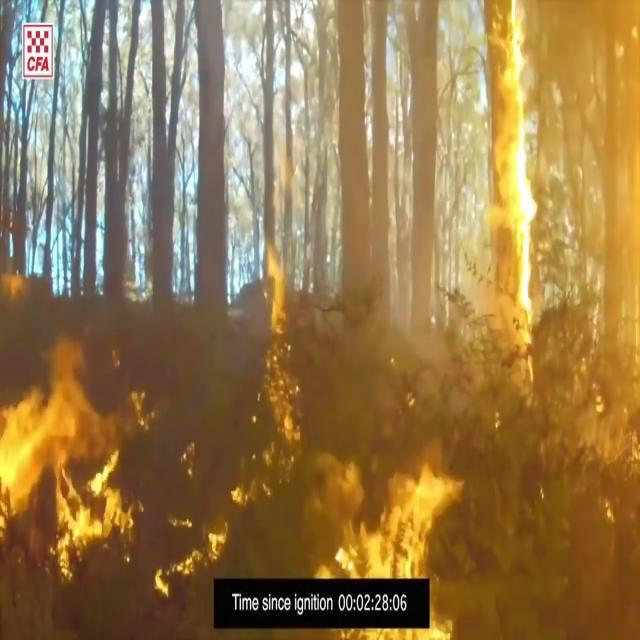Fire: (0, 328, 130, 574), (318, 408, 482, 596), (254, 207, 304, 450), (503, 4, 541, 320), (155, 518, 231, 602)
